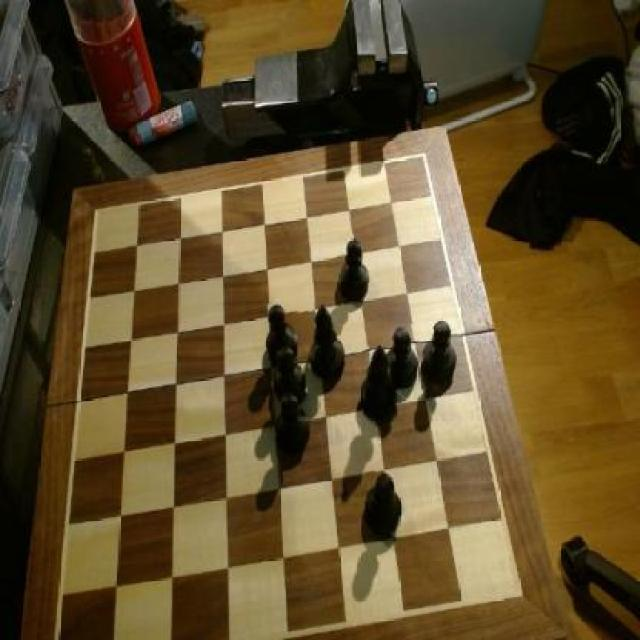bishop: (360, 348, 398, 429), (309, 303, 346, 382)
black-knight: (364, 469, 406, 535), (422, 320, 459, 392), (272, 342, 310, 410), (338, 236, 374, 304), (274, 394, 311, 458), (265, 305, 300, 367), (388, 325, 420, 390)
